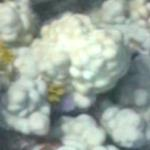alive: (1, 2, 148, 148)
